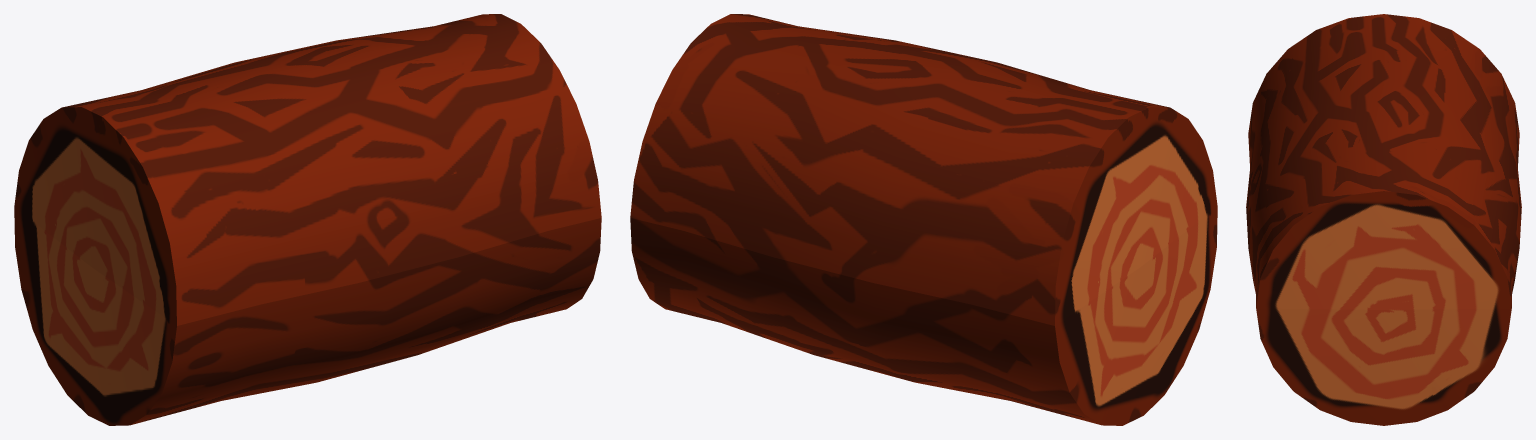
File: Log1.fbx
The picture shows the model from 3 angles, left to right: view 1: azimuth 30°, elevation 25°; view 2: azimuth 150°, elevation 25°; view 3: azimuth 270°, elevation 25°; orthographic projection. The views are drawn at different scales.
Visible parts, largest first — view 1: Log1_A, Log1_B; view 2: Log1_A, Log1_B; view 3: Log1_A, Log1_B.
Part boxes in pixels (x1,y1,x2,y2): Log1_A: (14, 14, 601, 325); Log1_B: (14, 207, 601, 425); Log1_A: (630, 14, 1217, 325); Log1_B: (630, 207, 1217, 425); Log1_A: (1246, 14, 1521, 309); Log1_B: (1249, 252, 1518, 425).
Size of the model in its own units: 300 by 195 by 195.
2 materials, 2 textured.
